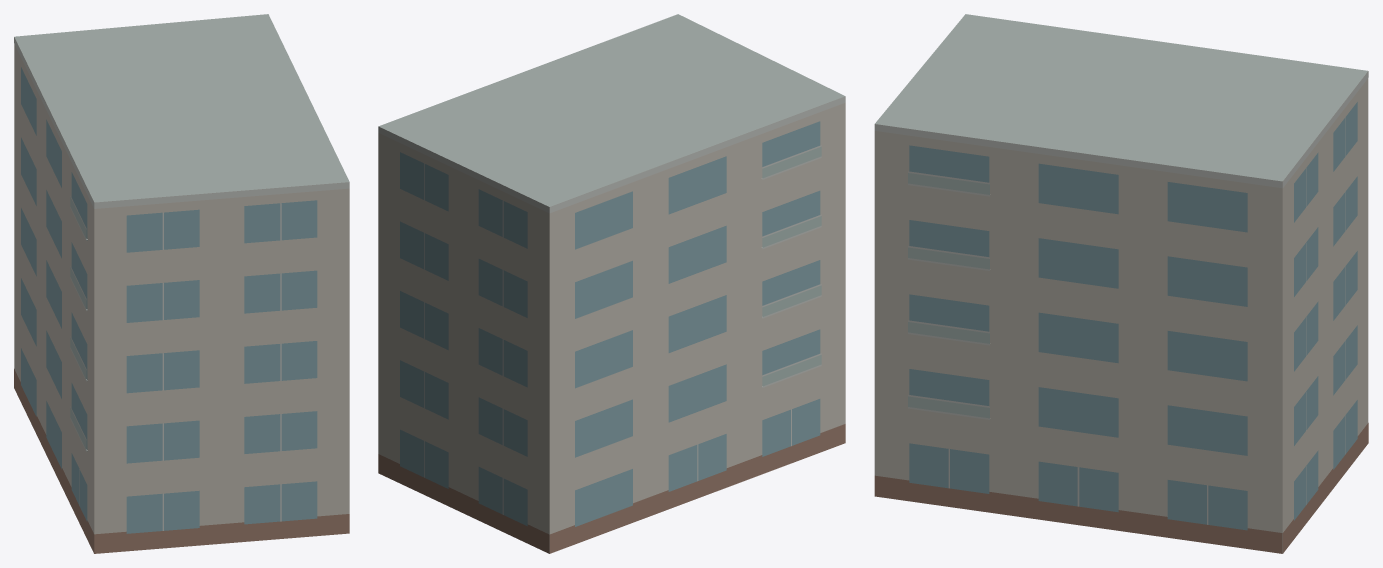
The model's file is survey-upis-32943196.glb.
3 renders of one model, left to right at view 1: azimuth 30°, elevation 25°; view 2: azimuth 150°, elevation 25°; view 3: azimuth 270°, elevation 25°, orthographic. The views are drawn at different scales.
Visible parts, largest first — view 1: survey-upis-32943196.tmp; view 2: survey-upis-32943196.tmp; view 3: survey-upis-32943196.tmp.
Part boxes in pixels (x1,y1,x2,y2): survey-upis-32943196.tmp: [14, 14, 349, 553]; survey-upis-32943196.tmp: [378, 14, 845, 553]; survey-upis-32943196.tmp: [874, 14, 1368, 553].
Bounding box in the file's own units: 12.79 × 13.25 × 15.93.
